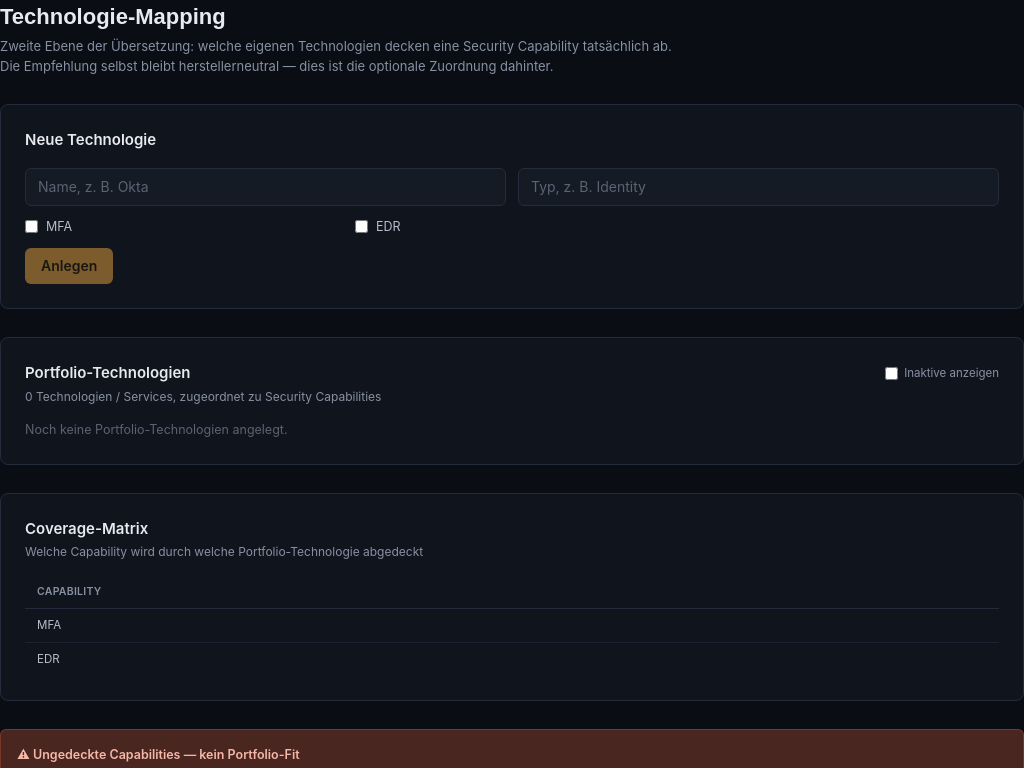
Portfolio › zeigt deaktivierte Technologien erst nach "Inaktive anzeigen" (Regressionstest Schritt 6)
Expected: the text "Noch keine Portfolio-Technologien angelegt." is shown, x1=25 y1=422 x2=288 y2=437
Click the checkbox labelled "Inaktive anzeigen".
click(892, 374)  # box x1=885 y1=367 x2=898 y2=380
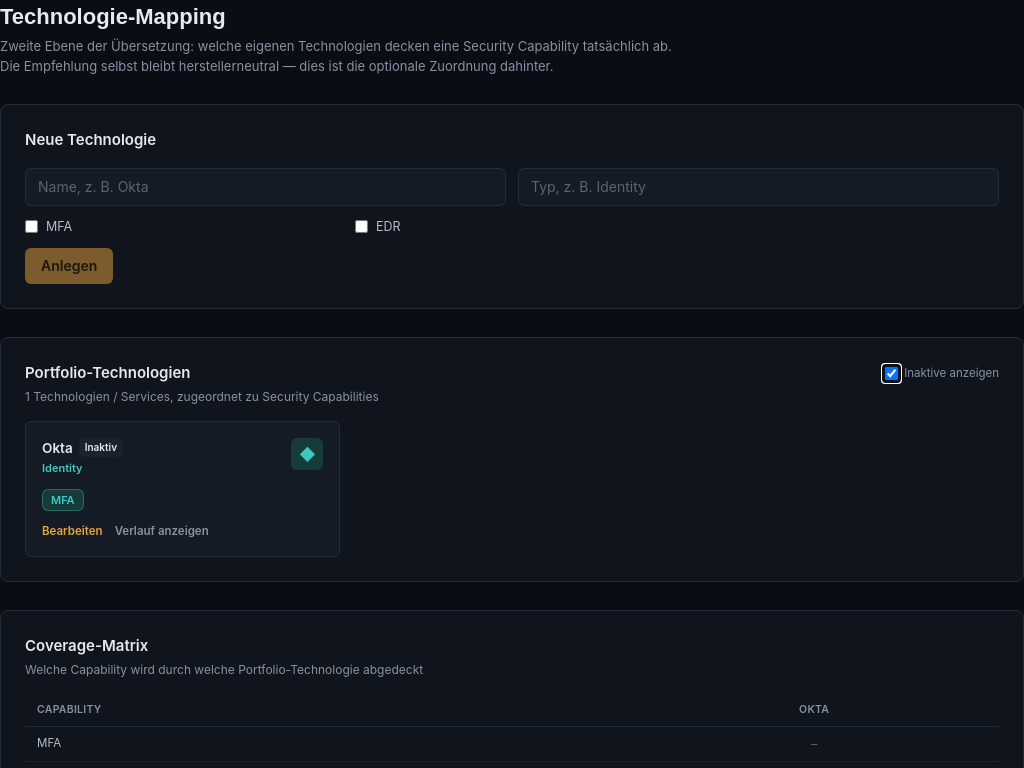
Expected: the text "Okta" is shown, x1=42 y1=438 x2=73 y2=458
Expected: the text "Inaktiv" is shown, x1=79 y1=438 x2=123 y2=457
